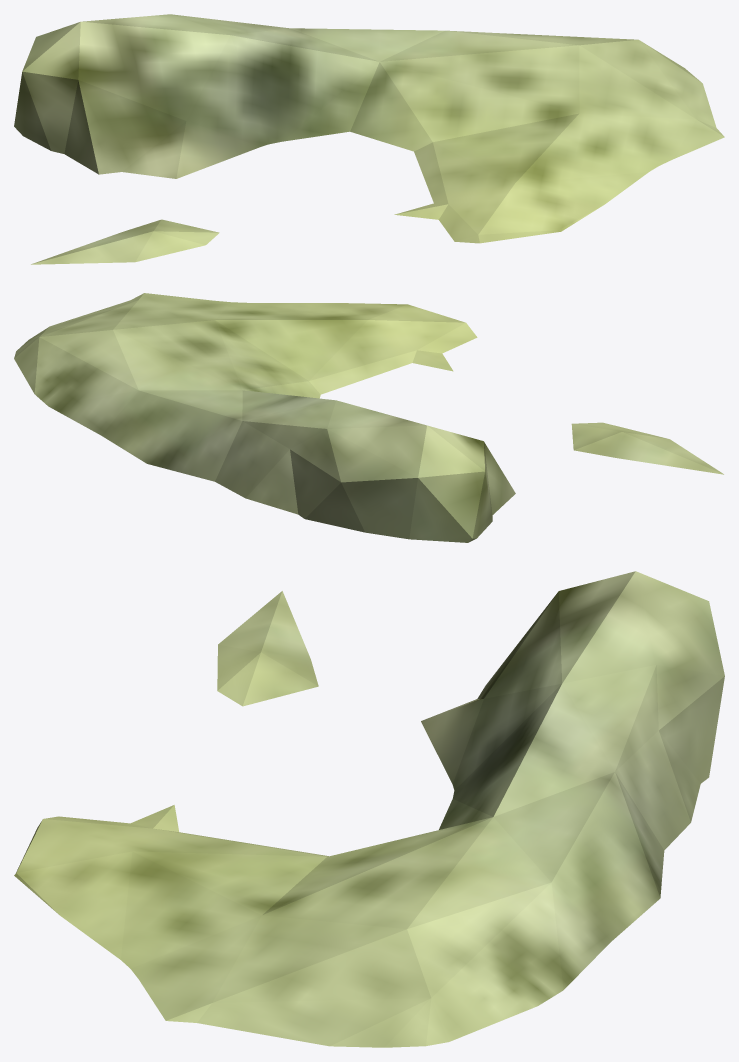
The picture shows the model from 3 angles, top to bottom: view 1: azimuth 30°, elevation 25°; view 2: azimuth 150°, elevation 25°; view 3: azimuth 270°, elevation 25°; orthographic projection. The views are drawn at different scales.
Size of the model in its own units: 1.85 by 0.2631 by 1.22.
1 material, 1 textured.
